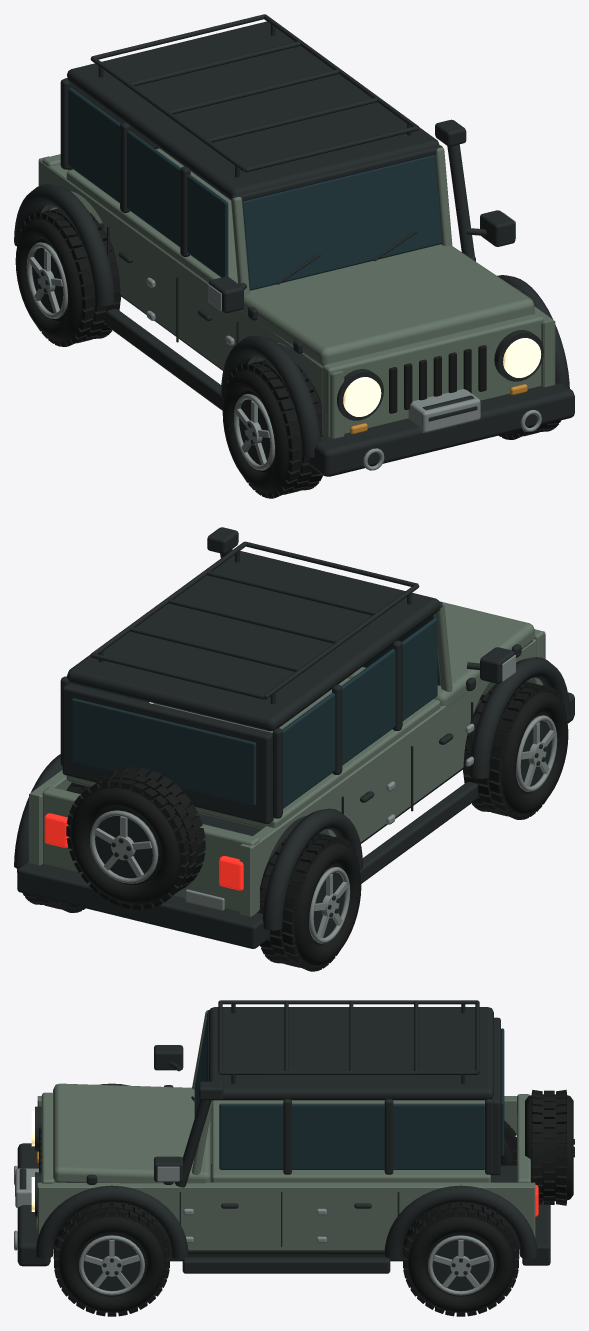
The model's file is expedition-jeep.glb.
3 views of the same model, one above another, from view 1: azimuth 30°, elevation 25°; view 2: azimuth 150°, elevation 25°; view 3: azimuth 270°, elevation 25° (orthographic). The views are drawn at different scales.
Parts seen in each view (by area): view 1: Trim (×3), Paint, Glass, Rubber (×3), Steel (×3), Headlights; view 2: Trim (×3), Paint, Rubber (×4), Glass, Steel (×3), BrakeLights; view 3: Trim (×3), Paint, Rubber (×4), Glass, Steel (×3).
Boxes of the visible parts, x1,y1,x2,y2 form: Trim (×3): [14, 14, 574, 476]; Paint: [38, 147, 555, 438]; Glass: [68, 87, 442, 290]; Rubber (×3): [15, 208, 486, 498]; Steel (×3): [26, 212, 541, 470]; Headlights: [343, 338, 541, 416]; Trim (×3): [14, 527, 574, 948]; Paint: [29, 601, 545, 916]; Rubber (×4): [16, 681, 568, 971]; Glass: [71, 614, 440, 808]; Steel (×3): [89, 655, 557, 943]; BrakeLights: [44, 813, 243, 890]; Trim (×3): [15, 1000, 574, 1291]; Paint: [37, 1010, 535, 1250]; Rubber (×4): [39, 1089, 573, 1316]; Glass: [194, 1019, 504, 1169]; Steel (×3): [14, 1165, 493, 1295].
Bounding box in the file's own units: 2.44 × 2.1 × 4.76.
